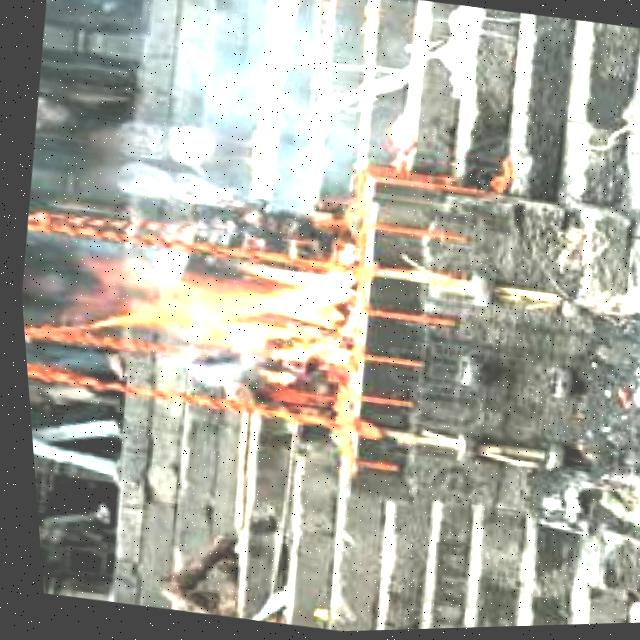Fire: (57, 213, 369, 387)
